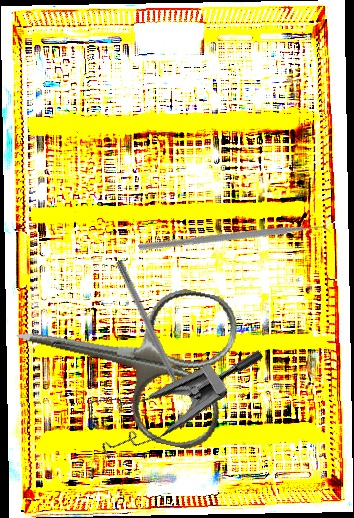Chopper: (137, 146, 336, 338)
Iris Scissors: (0, 256, 244, 455)
Pusher: (113, 259, 190, 408)
Speculum: (71, 293, 266, 485)
